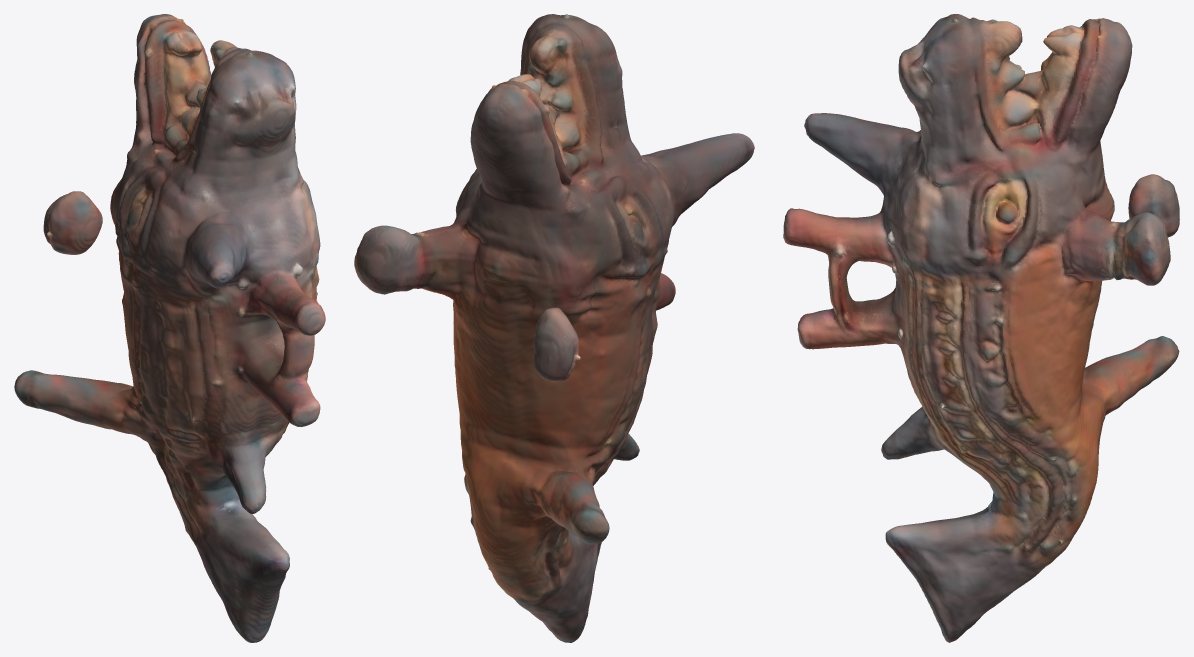
The model's file is paracas3.glb.
3 views of the same model, side by side, from view 1: azimuth 30°, elevation 25°; view 2: azimuth 150°, elevation 25°; view 3: azimuth 270°, elevation 25° (orthographic). The views are drawn at different scales.
Size of the model in its own units: 0.4582 by 1.06 by 0.6163.
Materials: 1 (1 with a texture image).
